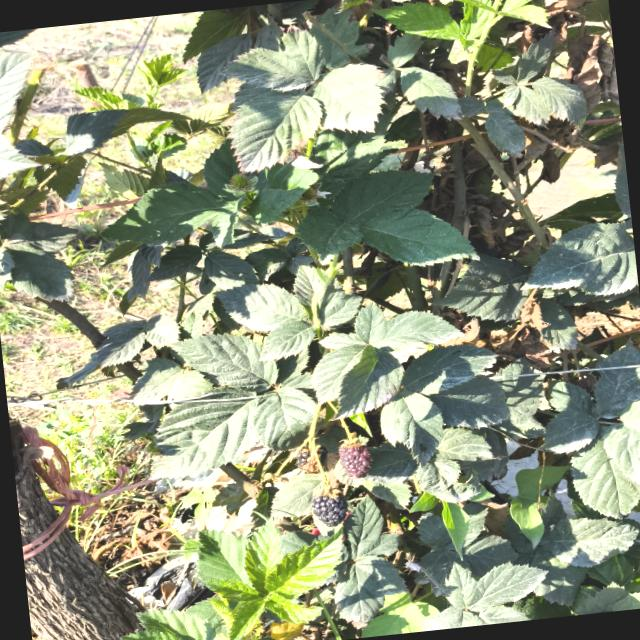maduro: (311, 489, 347, 526)
marron: (338, 444, 370, 478)
